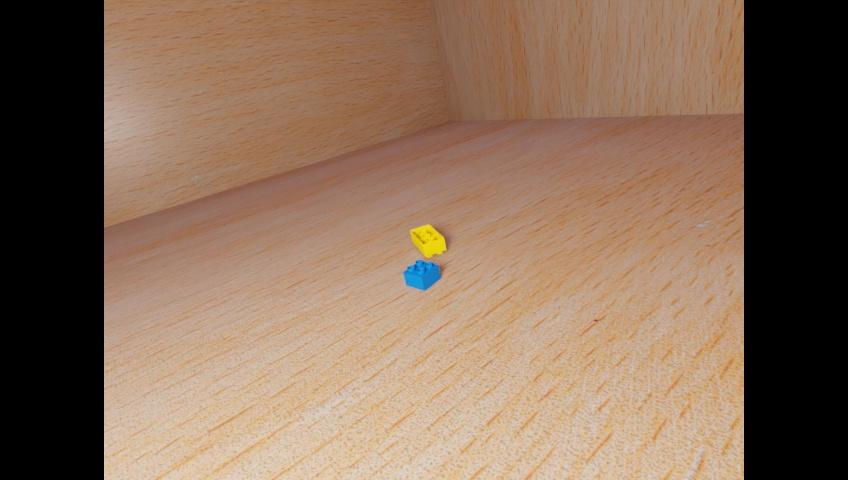2x2_blue: (403, 259, 439, 290)
4x2_yellow: (409, 223, 445, 257)
